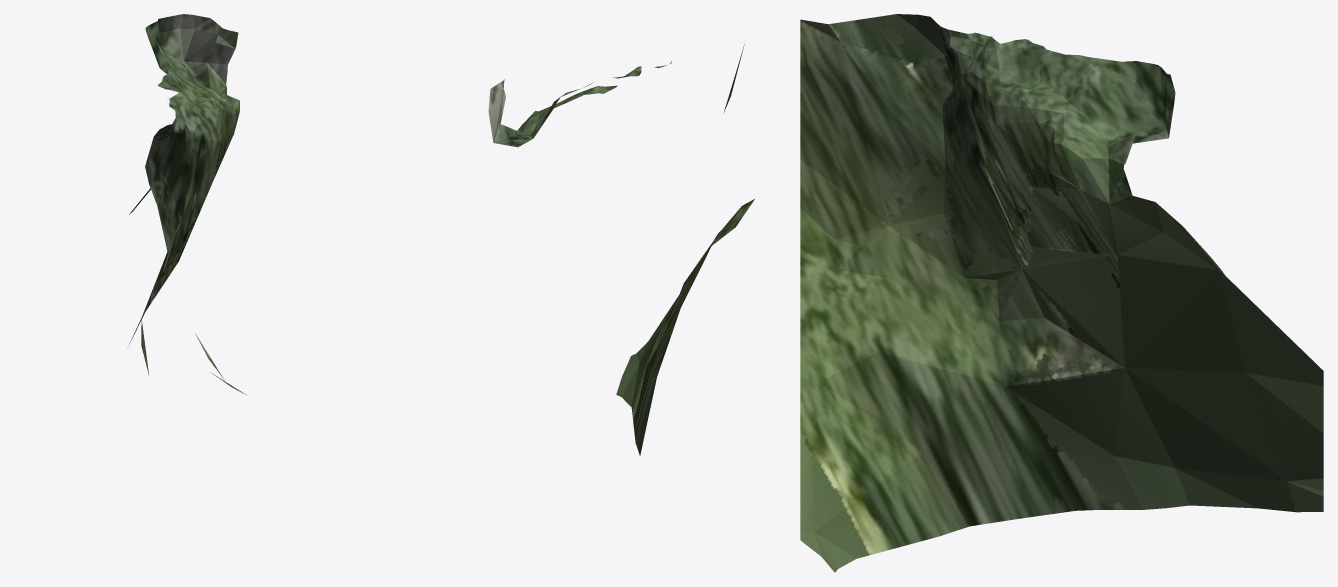
3 renders of one model, left to right at view 1: azimuth 30°, elevation 25°; view 2: azimuth 150°, elevation 25°; view 3: azimuth 270°, elevation 25°, orthographic. The views are drawn at different scales.
Bounding box in the file's own units: 2.32 × 5.9 × 5.9.
3 materials, 3 textured.
